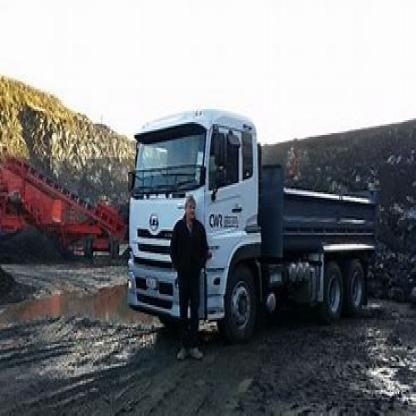dump_truck: (115, 85, 398, 337)
